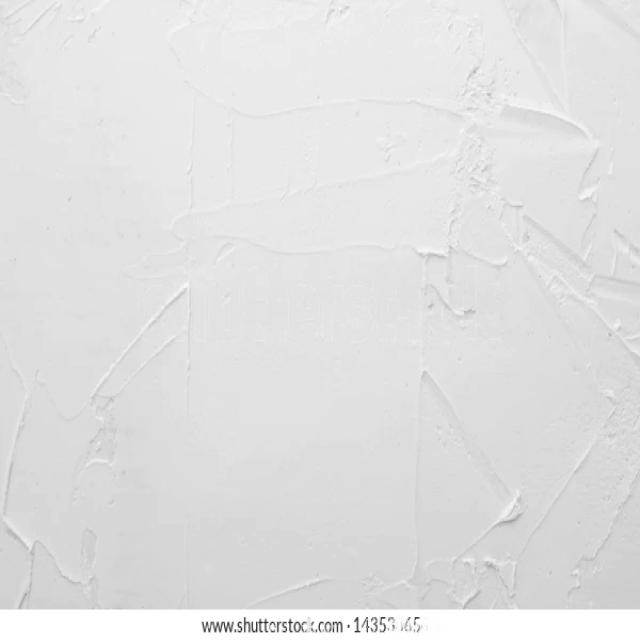rough and patchy surface: (0, 0, 640, 608), (62, 184, 78, 212)
